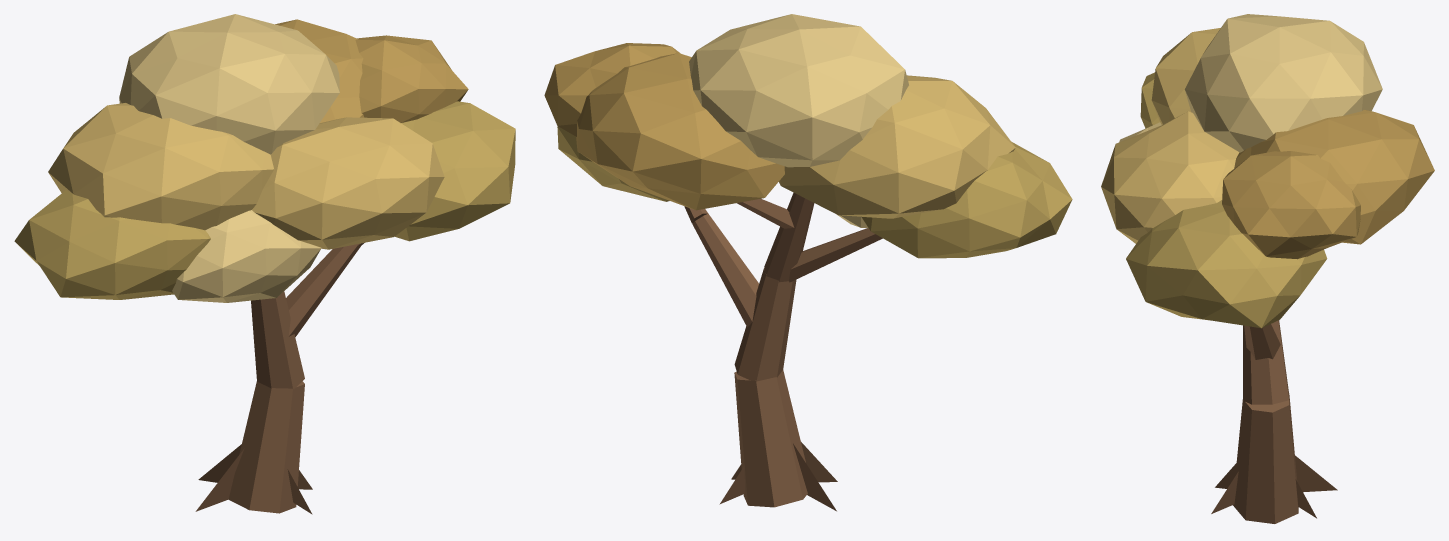
File: goldenTree.glb
3 views of the same model, side by side, from view 1: azimuth 30°, elevation 25°; view 2: azimuth 150°, elevation 25°; view 3: azimuth 270°, elevation 25° (orthographic). The views are drawn at different scales.
Visible parts, largest first — view 1: foliage-2, foliage-1, foliage-0, surface; view 2: foliage-0, foliage-1, foliage-2, surface; view 3: foliage-2, foliage-1, surface, foliage-0.
Boxes of the visible parts, x1=… form: foliage-2: x1=119, y1=14, x2=444, y2=249; foliage-1: x1=48, y1=35, x2=515, y2=241; foliage-0: x1=14, y1=19, x2=364, y2=302; surface: x1=195, y1=242, x2=364, y2=514; foliage-0: x1=576, y1=53, x2=1072, y2=258; foliage-1: x1=544, y1=43, x2=1015, y2=218; foliage-2: x1=689, y1=14, x2=908, y2=167; surface: x1=684, y1=192, x2=882, y2=511; foliage-2: x1=1101, y1=14, x2=1382, y2=243; foliage-1: x1=1126, y1=28, x2=1360, y2=328; surface: x1=1211, y1=320, x2=1337, y2=523; foliage-0: x1=1119, y1=72, x2=1434, y2=244.
Bounding box in the file's own units: 5.78 × 5.51 × 3.55.
